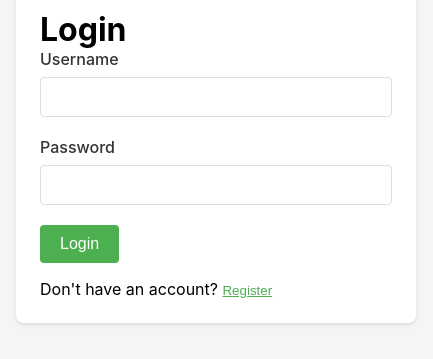
Login › shows error on login failure
Type "admin" into the field labelled "Username".
click(216, 97); type("admin")  # box top-left (40, 77), bottom-right (392, 117)
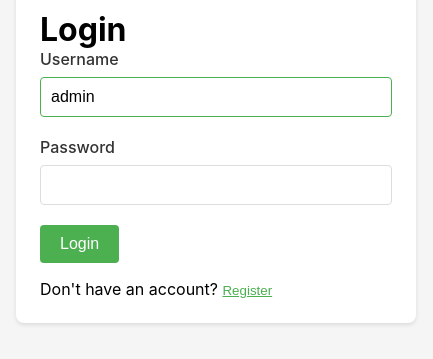
Type "wrong" into the password field labelled "Password".
click(216, 185); type("wrong")  # box top-left (40, 165), bottom-right (392, 205)
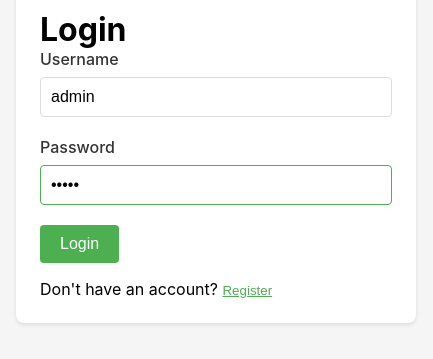
Click the button "Login".
click(80, 244)  # box top-left (40, 225), bottom-right (119, 263)
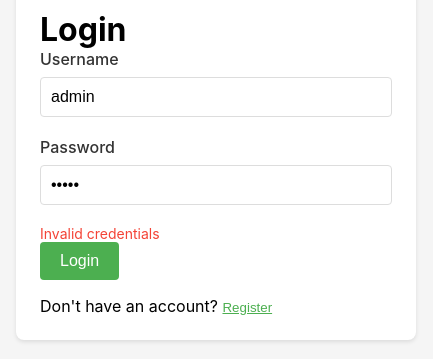
Check: the text "Invalid credentials" is shown, box top-left (40, 225), bottom-right (160, 242)
